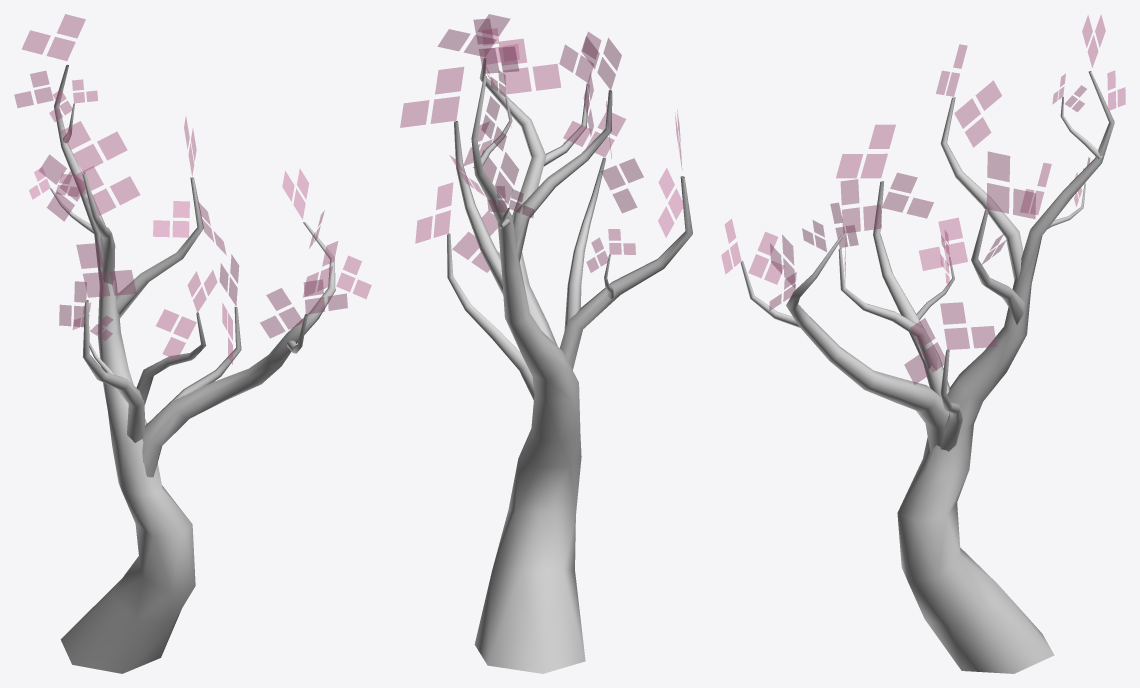
The model's file is Deep_tree_01.fbx.
3 renders of one model, left to right at view 1: azimuth 30°, elevation 25°; view 2: azimuth 150°, elevation 25°; view 3: azimuth 270°, elevation 25°, orthographic. The views are drawn at different scales.
Parts seen in each view (by area): view 1: BezierCurve.002; view 2: BezierCurve.002; view 3: BezierCurve.002.
Part boxes in pixels (<box>): BezierCurve.002: <box>14,14,371,673</box>; BezierCurve.002: <box>400,14,692,673</box>; BezierCurve.002: <box>721,14,1125,673</box>.
Bounding box in the file's own units: 86.95 × 213 × 122.
